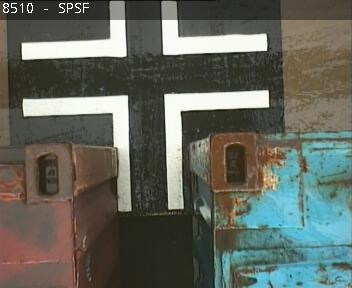groundmarker_1: (21, 88, 269, 210), (22, 1, 267, 60)
